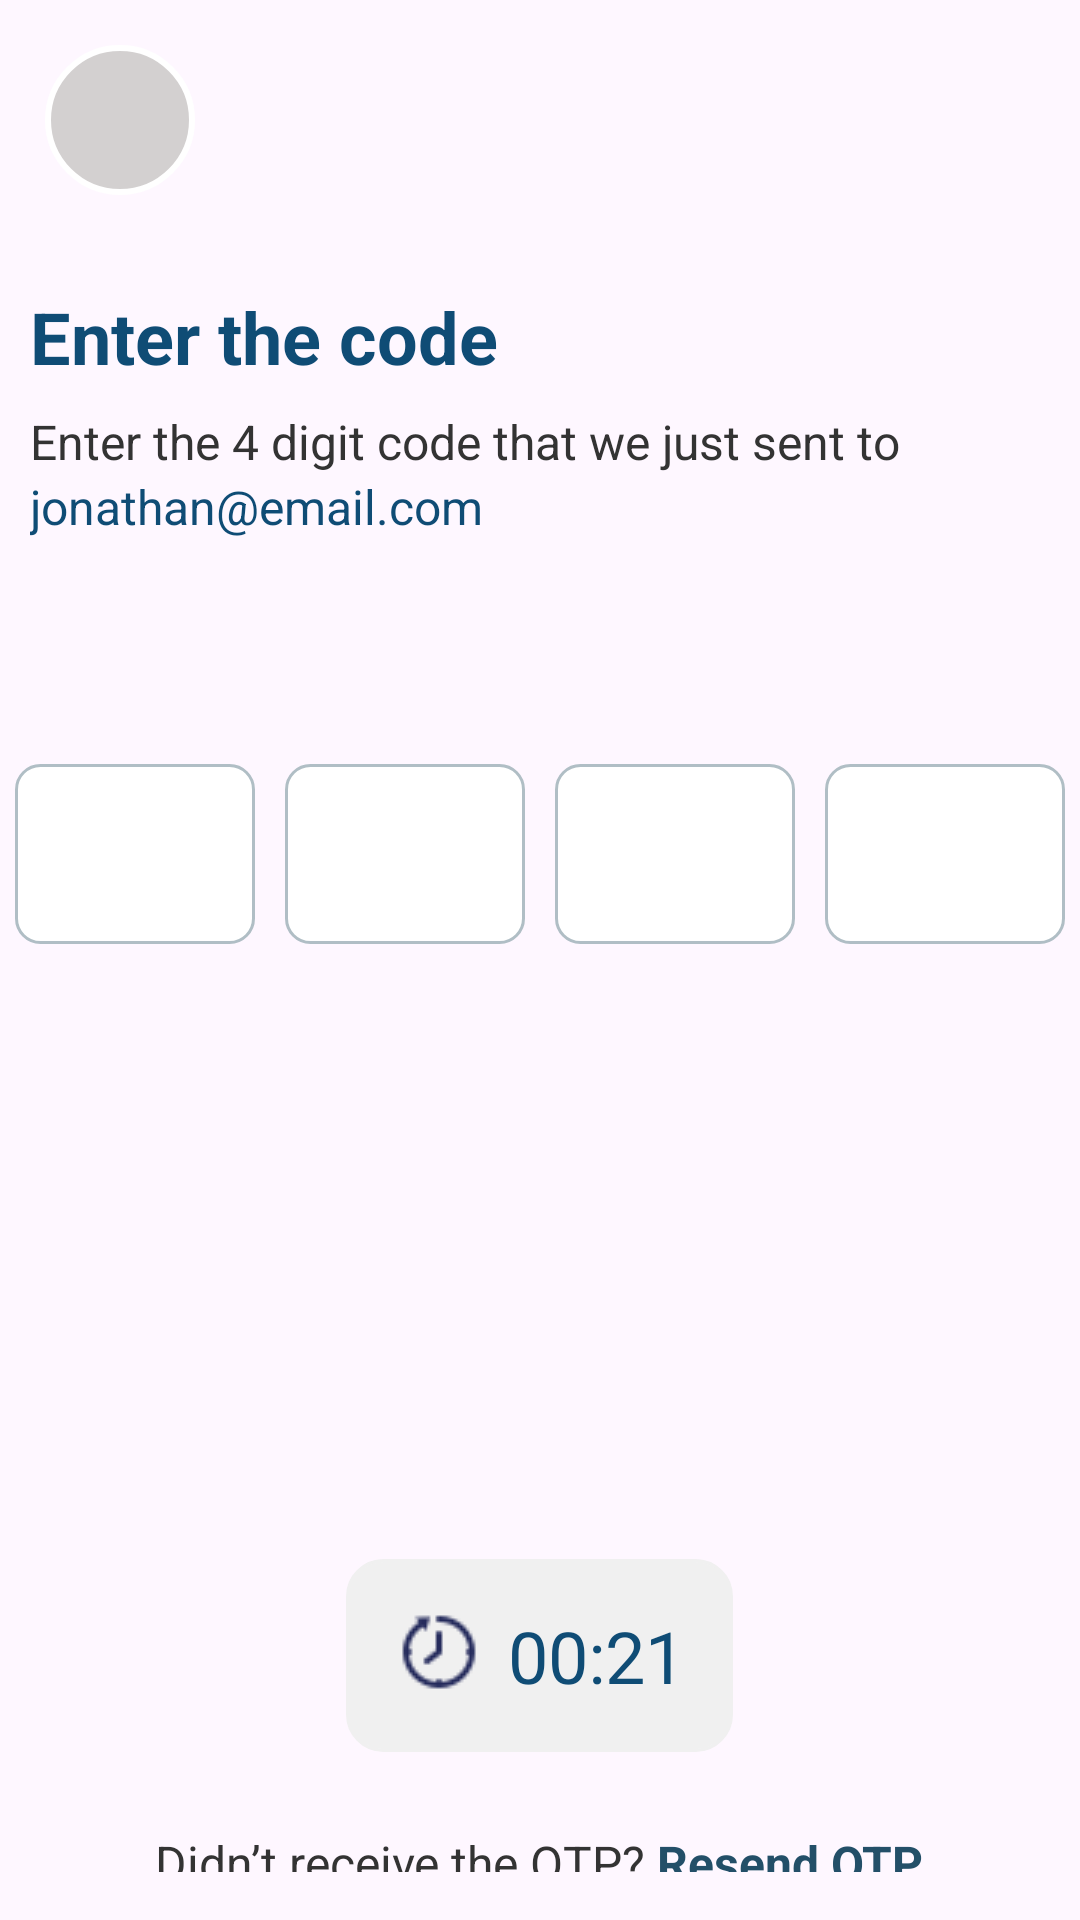

Screen size 1080px x 1920px. Icon name, then its box in pixels as (x1, y1, x2, y2):
timer: (402, 1615, 476, 1689)
